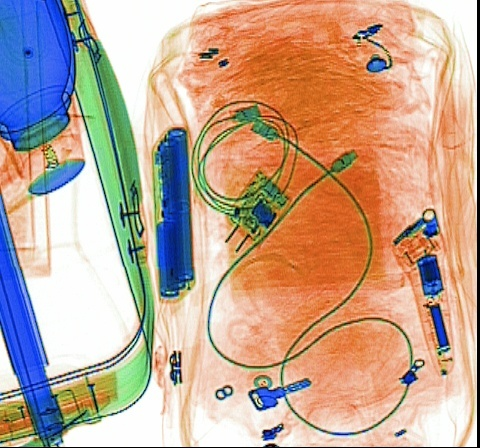powerbank: (148, 123, 197, 305)
